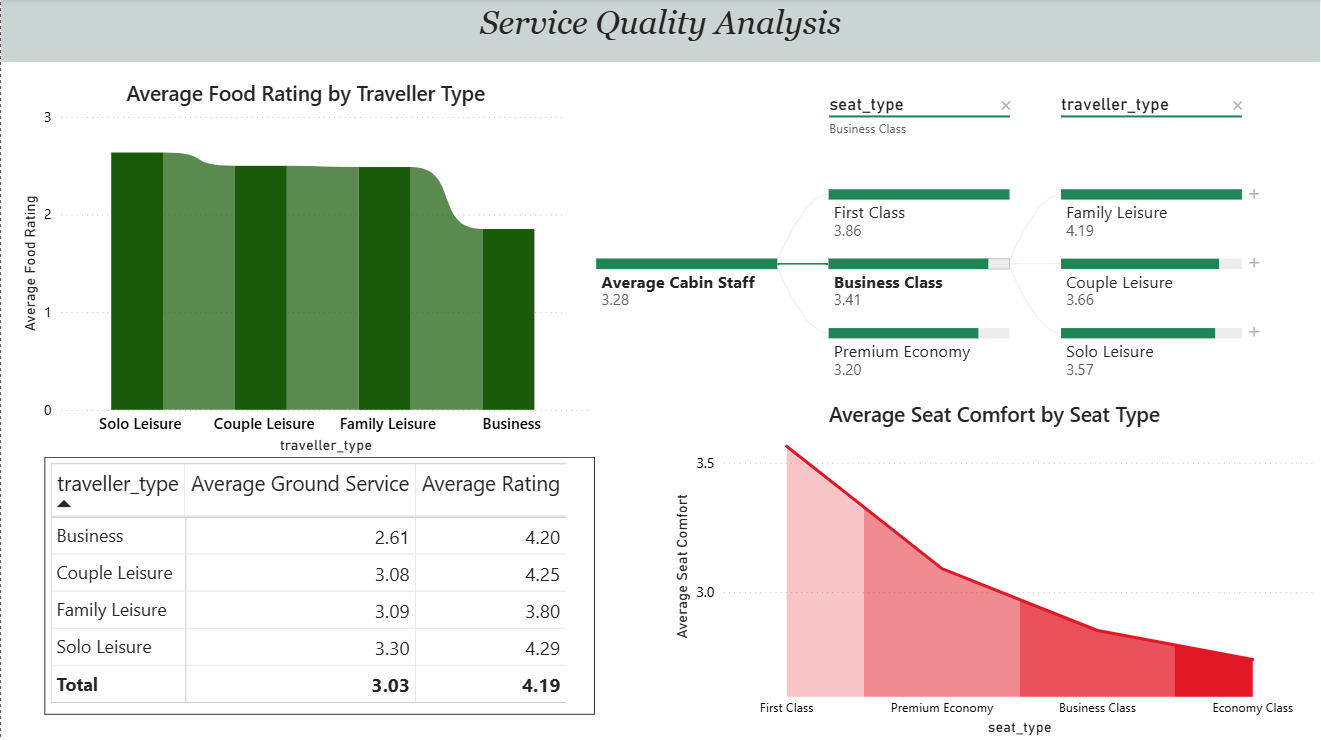

This screenshot's page, from the dashboard's own definition file:
{"tool":"powerbi","page":{"name":"Service Quality Analysis","canvas":[1280,720],"ordinal":1},"visuals":[{"type":"ribbonChart","title":"Average Food Rating by Traveller Type","fields":{"Category":["ba_reviews_cleaned.traveller_type"],"Y":["ba_reviews_cleaned.Average Food Rating"]},"box":[14,78,562,368],"z":0},{"type":"pivotTable","fields":{"Rows":["ba_reviews_cleaned.traveller_type"],"Values":["ba_reviews_cleaned.Average Ground Service","ba_reviews_cleaned.Average Rating"]},"box":[42,446,534,250],"z":1000},{"type":"areaChart","title":"Average Seat Comfort by Seat Type","fields":{"Category":["ba_reviews_cleaned.seat_type"],"Y":["ba_reviews_cleaned.Average Seat Comfort"]},"box":[648,390,632,330],"z":2000},{"type":"decompositionTreeVisual","fields":{"Analyze":["ba_reviews_cleaned.Average Cabin Staff"],"ExplainBy":["ba_reviews_cleaned.seat_type","ba_reviews_cleaned.traveller_type","ba_reviews_cleaned.trip_verified"]},"box":[548,78,698,312],"z":3000},{"type":"textbox","box":[0,0,1280,62],"z":4000}]}

Visuals, with their boxes in screenshot pixels (x1, y1, x2, y2), scaled from the page's 1280x720 canvas onto the 1321x740 screenshot:
"Average Food Rating by Traveller Type" ribbonChart: crop(14, 80, 594, 458)
pivotTable - ba_reviews_cleaned.traveller_type x ba_reviews_cleaned.Average Ground Service: crop(43, 458, 594, 715)
"Average Seat Comfort by Seat Type" areaChart: crop(669, 401, 1320, 739)
decompositionTreeVisual - ba_reviews_cleaned.Average Cabin Staff x ba_reviews_cleaned.seat_type: crop(566, 80, 1286, 401)
textbox: crop(0, 0, 1320, 64)
